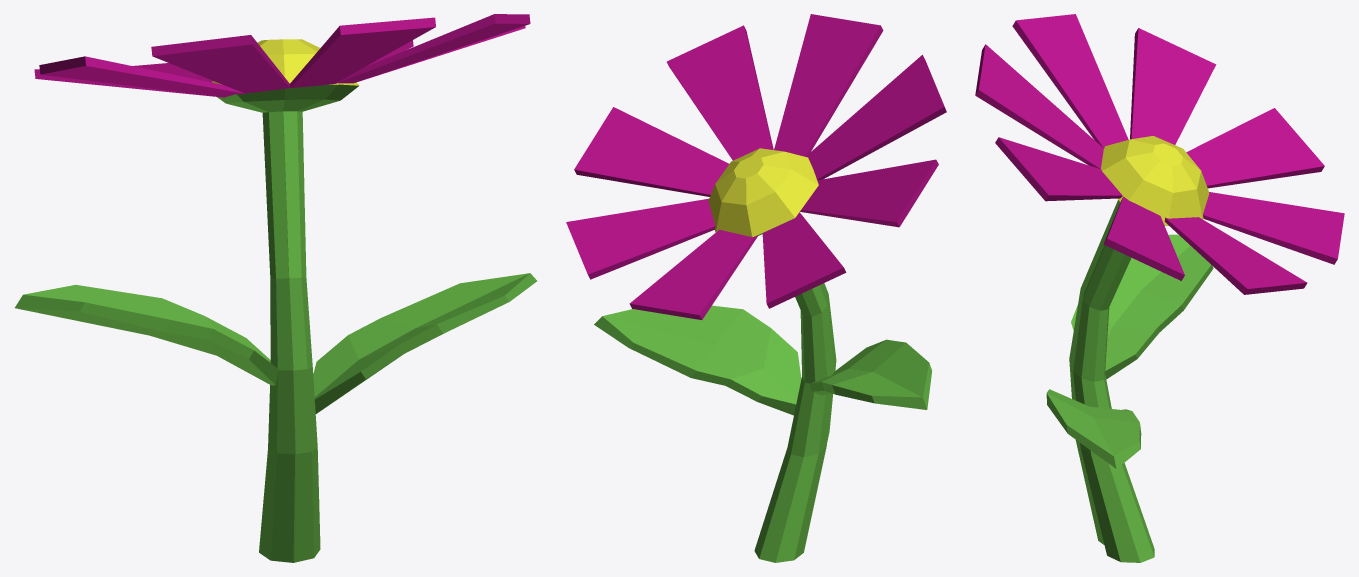
The model's file is cicek3.fbx.
The picture shows the model from 3 angles, left to right: view 1: azimuth 30°, elevation 25°; view 2: azimuth 150°, elevation 25°; view 3: azimuth 270°, elevation 25°; orthographic projection. The views are drawn at different scales.
Visible parts, largest first — view 1: cicek3kok, cicek3; view 2: cicek3, cicek3kok; view 3: cicek3, cicek3kok.
Boxes of the visible parts, x1,y1,x2,y2 form: cicek3kok: (15,39,536,562); cicek3: (34,14,530,97); cicek3: (566,14,946,319); cicek3kok: (594,148,931,562); cicek3: (975,14,1344,294); cicek3kok: (1046,136,1213,562).
Bounding box in the file's own units: 107 × 131 × 88.93.
